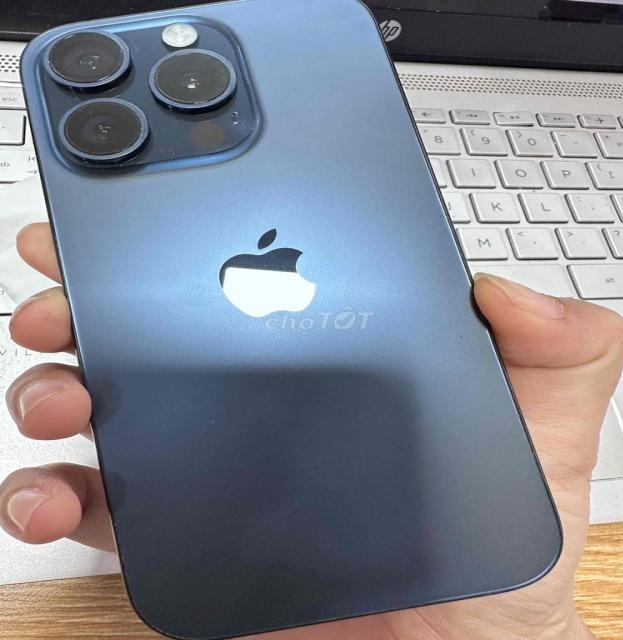scratch: (38, 25, 253, 163), (203, 413, 222, 428), (453, 331, 471, 344), (271, 372, 287, 381)
